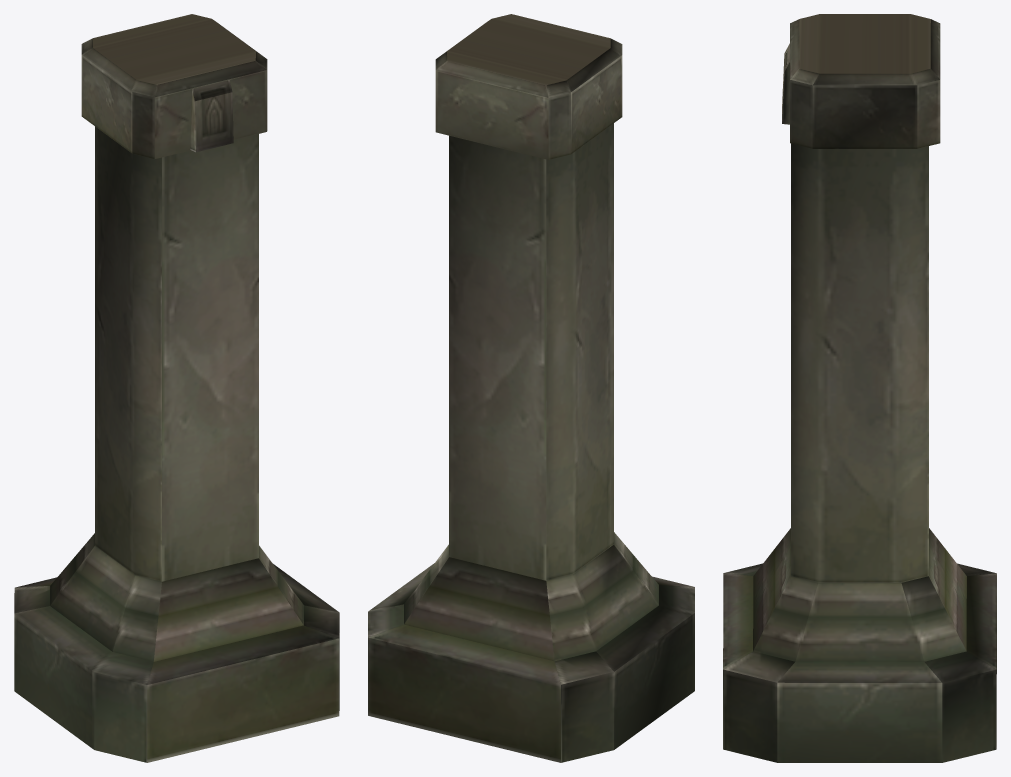
The model's file is ZC_aizhu01.FBX.
3 views of the same model, side by side, from view 1: azimuth 30°, elevation 25°; view 2: azimuth 150°, elevation 25°; view 3: azimuth 270°, elevation 25° (orthographic). The views are drawn at different scales.
Parts seen in each view (by area): view 1: ZC_aizhu01_01; view 2: ZC_aizhu01_01; view 3: ZC_aizhu01_01.
Boxes of the visible parts, left/top/right/bottom form: ZC_aizhu01_01: left=14, top=14, right=339, bottom=762; ZC_aizhu01_01: left=368, top=14, right=694, bottom=762; ZC_aizhu01_01: left=723, top=14, right=996, bottom=762.
Bounding box in the file's own units: 510 × 1270 × 479.
